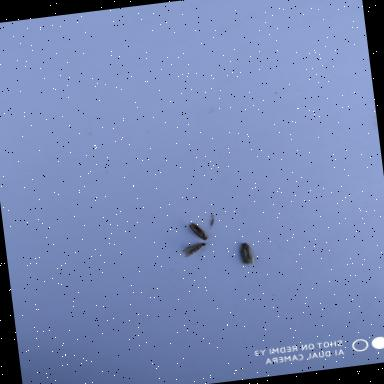pbw: (236, 240, 257, 270), (178, 241, 208, 258), (186, 219, 208, 242)
